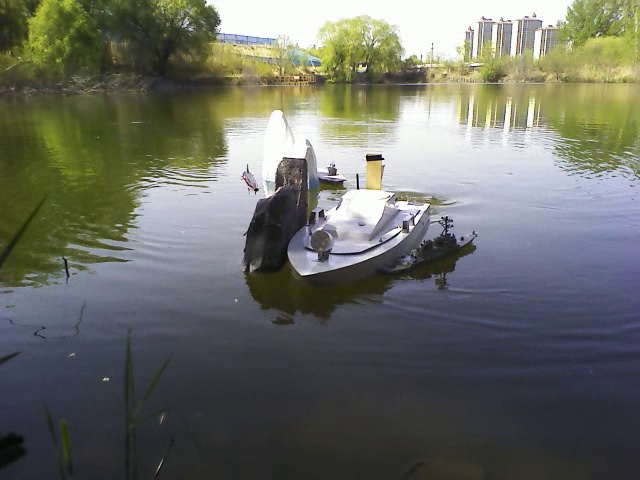boat: (288, 183, 433, 281)
iceberg: (254, 104, 320, 187)
rock: (242, 156, 305, 274)
submarine: (241, 156, 259, 197)
warship: (385, 227, 489, 276)
